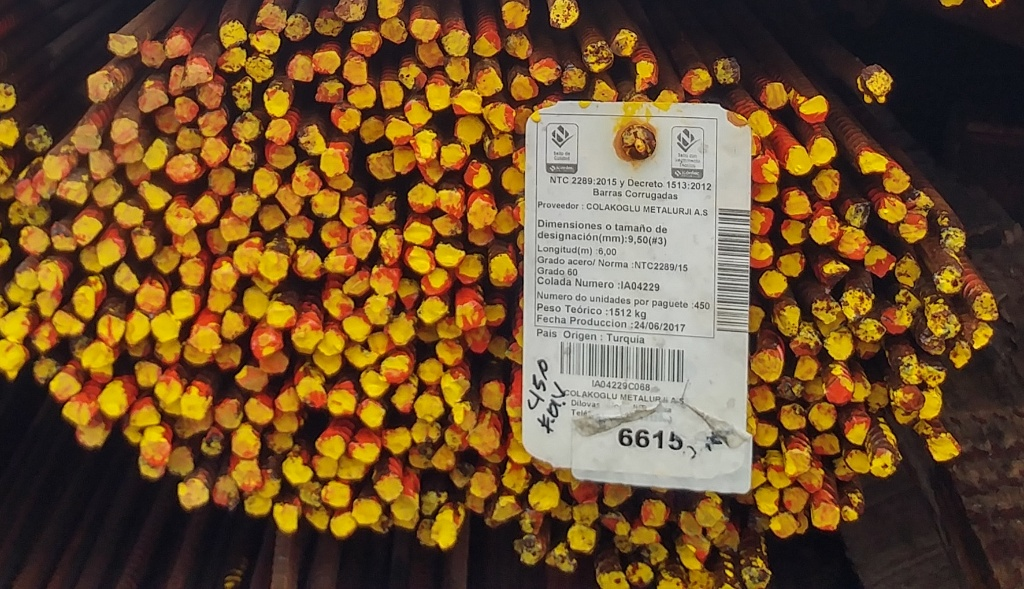dipstick: (673, 535, 708, 570), (32, 258, 65, 292), (526, 53, 559, 86), (289, 248, 323, 279), (347, 226, 378, 260), (374, 228, 404, 263), (879, 304, 915, 333), (820, 374, 856, 403), (488, 255, 520, 287), (134, 280, 167, 311), (231, 456, 262, 489), (751, 349, 784, 380), (257, 248, 287, 282), (176, 478, 210, 508), (241, 284, 268, 321), (229, 245, 260, 277), (809, 212, 841, 243), (289, 166, 322, 196), (435, 237, 464, 271), (310, 346, 344, 375), (365, 151, 400, 179), (394, 61, 425, 92), (199, 137, 231, 167), (244, 392, 274, 424), (1, 311, 33, 341), (248, 27, 283, 54), (151, 311, 181, 342), (363, 293, 394, 323), (282, 456, 312, 487), (529, 481, 560, 511), (749, 153, 781, 182), (404, 218, 436, 247), (97, 387, 129, 416), (188, 327, 220, 356), (373, 263, 402, 295), (208, 258, 237, 290), (839, 288, 871, 317), (926, 429, 958, 458), (78, 344, 115, 369), (465, 195, 498, 223), (926, 309, 959, 337), (84, 149, 114, 179), (451, 87, 481, 117), (136, 282, 166, 312), (318, 148, 349, 177), (286, 53, 315, 84), (812, 168, 841, 199), (408, 180, 437, 211), (270, 502, 299, 533), (812, 500, 841, 531), (213, 400, 245, 428), (378, 356, 410, 384), (842, 227, 870, 259), (841, 418, 873, 446), (891, 384, 923, 412), (50, 306, 83, 333), (388, 312, 415, 345), (229, 427, 262, 454), (251, 330, 284, 357), (410, 418, 444, 444), (140, 437, 170, 466), (418, 294, 447, 324), (823, 331, 853, 360), (931, 263, 960, 293), (799, 92, 827, 123), (400, 100, 431, 128), (348, 433, 379, 461), (373, 474, 404, 502), (470, 424, 498, 455), (866, 245, 894, 276), (204, 166, 236, 193), (862, 68, 889, 100), (49, 371, 81, 398), (170, 446, 197, 478), (486, 104, 518, 131), (104, 32, 137, 58), (123, 311, 149, 344), (282, 11, 311, 40), (70, 217, 100, 245), (233, 112, 261, 142), (20, 226, 48, 256), (340, 195, 370, 223), (108, 118, 139, 145), (472, 30, 503, 57), (681, 66, 712, 93), (392, 143, 419, 174), (234, 364, 265, 391), (291, 322, 318, 353), (566, 525, 597, 552), (135, 86, 167, 112), (378, 19, 410, 45), (384, 118, 412, 147), (457, 300, 486, 328), (94, 317, 123, 345), (320, 480, 348, 509), (97, 233, 124, 263), (440, 29, 470, 56), (497, 166, 524, 196), (142, 139, 168, 170), (312, 77, 343, 103), (329, 103, 360, 129), (471, 467, 497, 498), (68, 127, 100, 152), (808, 299, 840, 324), (135, 184, 168, 208), (40, 151, 68, 179), (370, 193, 398, 221), (357, 399, 385, 427), (257, 3, 286, 30), (262, 87, 289, 116), (378, 79, 405, 108), (169, 289, 198, 316), (352, 498, 381, 525), (778, 218, 807, 245), (502, 465, 529, 494), (894, 258, 921, 287), (392, 382, 419, 411), (165, 156, 195, 182), (71, 287, 97, 317), (319, 222, 349, 248), (63, 398, 93, 424), (178, 257, 204, 287), (326, 389, 356, 415), (284, 57, 315, 82), (165, 210, 196, 235), (480, 379, 505, 410), (88, 71, 112, 103), (780, 190, 812, 214), (152, 247, 179, 275), (341, 58, 368, 86), (351, 28, 378, 56), (134, 359, 161, 387), (154, 375, 181, 403), (217, 21, 246, 47), (247, 53, 273, 82), (230, 79, 256, 108), (58, 180, 87, 206), (509, 74, 538, 100), (323, 291, 352, 317), (777, 251, 806, 277), (414, 395, 443, 421), (749, 387, 778, 413), (755, 483, 781, 512), (452, 117, 482, 142), (343, 315, 373, 340), (486, 132, 516, 157), (344, 87, 378, 109), (334, 1, 366, 24), (315, 435, 347, 458), (878, 195, 905, 222), (695, 498, 722, 525), (91, 182, 119, 208), (251, 169, 279, 195), (315, 189, 341, 217), (414, 395, 442, 421), (873, 446, 899, 474), (769, 511, 797, 537), (231, 144, 256, 173), (229, 194, 258, 219), (423, 83, 452, 108), (258, 201, 283, 230), (973, 293, 998, 322), (968, 319, 993, 348), (810, 403, 835, 432), (437, 189, 467, 213), (334, 457, 365, 480), (625, 562, 656, 585), (183, 387, 205, 419), (502, 1, 529, 27), (383, 427, 410, 453), (112, 200, 140, 225), (408, 245, 433, 273), (434, 338, 462, 363), (635, 60, 660, 88), (549, 1, 578, 25), (265, 143, 295, 166), (262, 119, 293, 141), (436, 144, 467, 166), (760, 269, 786, 295), (515, 537, 541, 563), (444, 58, 470, 84), (184, 58, 209, 85), (194, 197, 219, 224), (131, 230, 156, 257), (761, 81, 786, 108), (457, 258, 484, 283), (422, 271, 450, 295), (900, 215, 924, 243), (641, 498, 665, 526), (139, 42, 165, 67), (463, 161, 488, 187), (358, 371, 384, 396), (846, 449, 872, 474), (783, 147, 810, 171), (199, 114, 227, 137), (812, 137, 835, 165), (857, 317, 885, 340), (116, 262, 138, 291), (749, 241, 771, 270), (407, 19, 437, 40), (392, 496, 417, 521), (418, 358, 443, 383), (176, 127, 202, 151), (476, 69, 500, 95), (289, 216, 315, 240), (494, 495, 520, 519), (884, 166, 908, 192), (941, 227, 965, 253), (164, 36, 191, 59), (750, 206, 773, 233), (786, 450, 807, 479), (217, 47, 242, 71), (174, 96, 198, 121), (222, 311, 247, 335), (331, 511, 357, 534), (629, 528, 660, 547), (312, 456, 340, 477), (359, 117, 383, 141), (750, 110, 773, 135), (614, 31, 640, 53), (13, 267, 37, 290), (777, 308, 800, 332), (16, 182, 38, 207), (269, 305, 295, 326), (859, 150, 885, 171), (794, 355, 817, 378), (753, 420, 777, 442), (486, 299, 507, 324), (715, 60, 738, 82), (899, 355, 919, 380), (244, 494, 269, 514), (433, 519, 452, 545), (821, 260, 843, 280)
